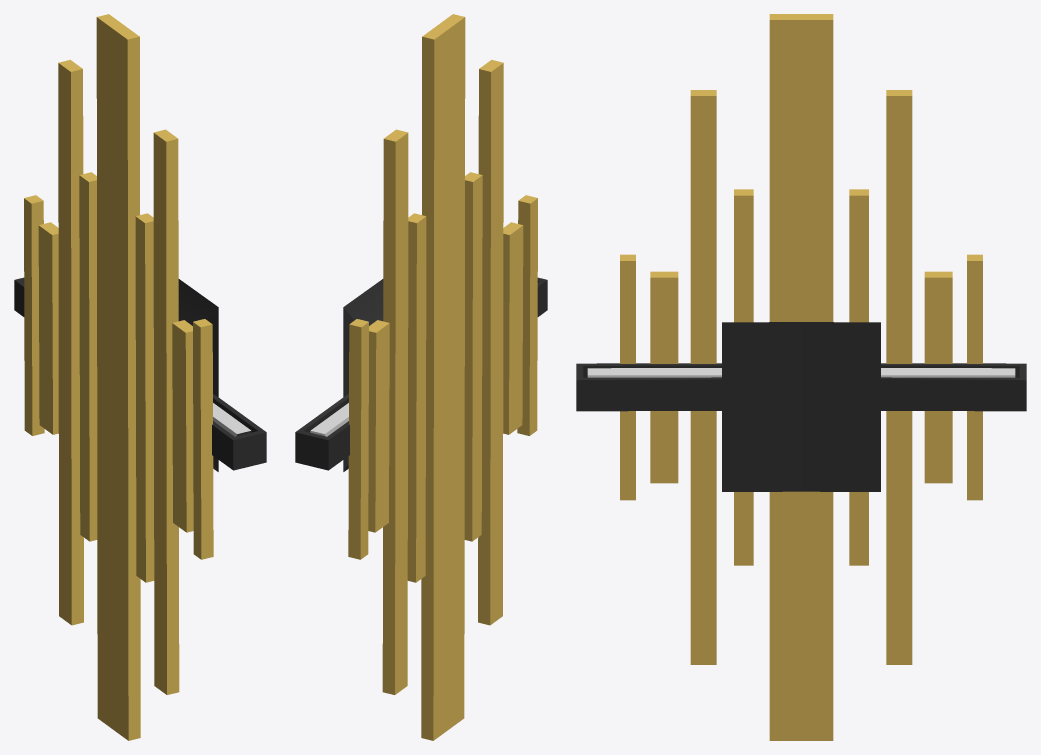
File: Wall Light.fbx
3 renders of one model, left to right at view 1: azimuth 30°, elevation 25°; view 2: azimuth 150°, elevation 25°; view 3: azimuth 270°, elevation 25°, orthographic. The views are drawn at different scales.
Parts seen in each view (by area): view 1: Cube; view 2: Cube; view 3: Cube.
Boxes of the visible parts, x1,y1,x2,y2 form: Cube: [14, 14, 266, 740]; Cube: [295, 14, 547, 740]; Cube: [576, 14, 1026, 740].
Size of the model in its own units: 8.85 by 87.45 by 49.52.
